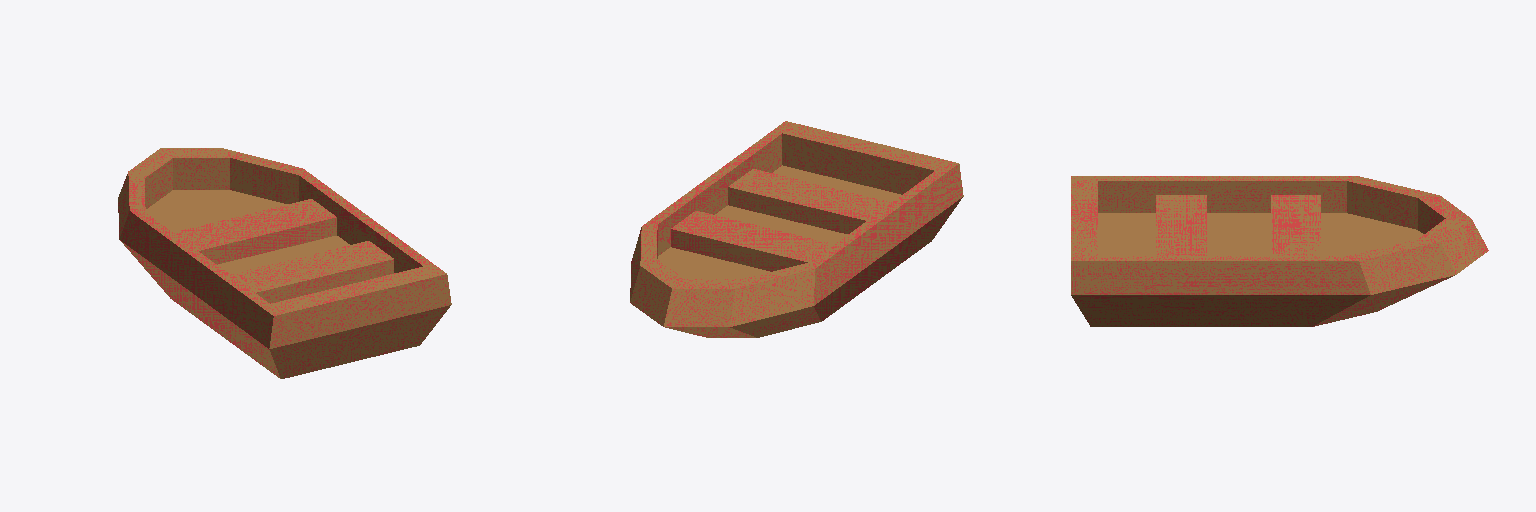
Rendered from boat_027.obj.
The picture shows the model from 3 angles: view 1: azimuth 30°, elevation 25°; view 2: azimuth 150°, elevation 25°; view 3: azimuth 270°, elevation 25°; orthographic projection.
Visible parts, largest first — view 1: boat_027; view 2: boat_027; view 3: boat_027.
Boxes of the visible parts, box(x1,y1,x2,y2) form: boat_027: box(118, 148, 451, 378); boat_027: box(630, 121, 963, 337); boat_027: box(1071, 176, 1488, 326).
Bounding box in the file's own units: 1.78 × 0.7 × 3.55.